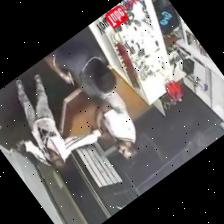person: (15, 74, 100, 171), (77, 75, 138, 159), (44, 35, 116, 92)
